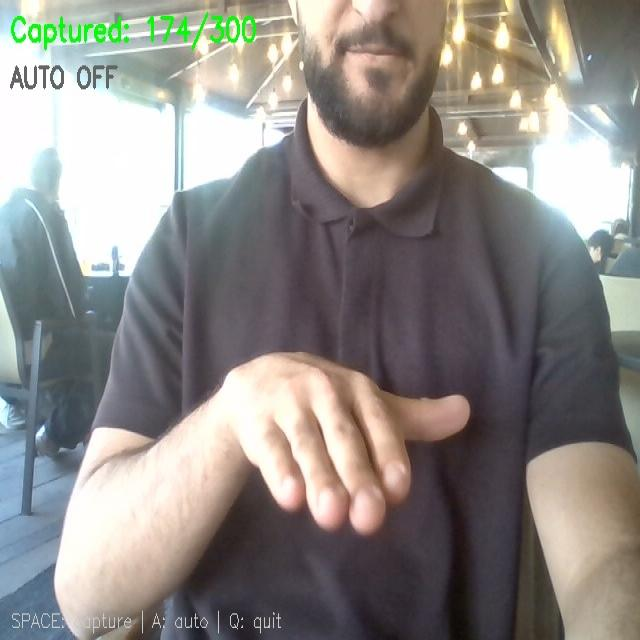Hand: (219, 354, 469, 534)
